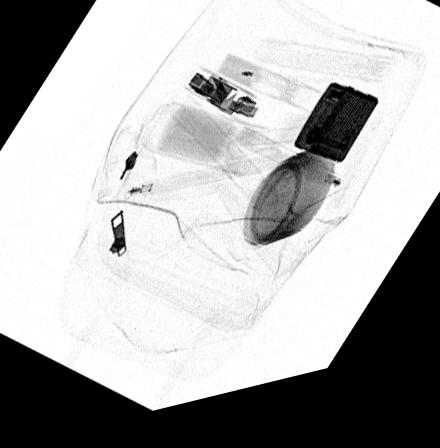Lighter: (293, 98, 380, 179)
